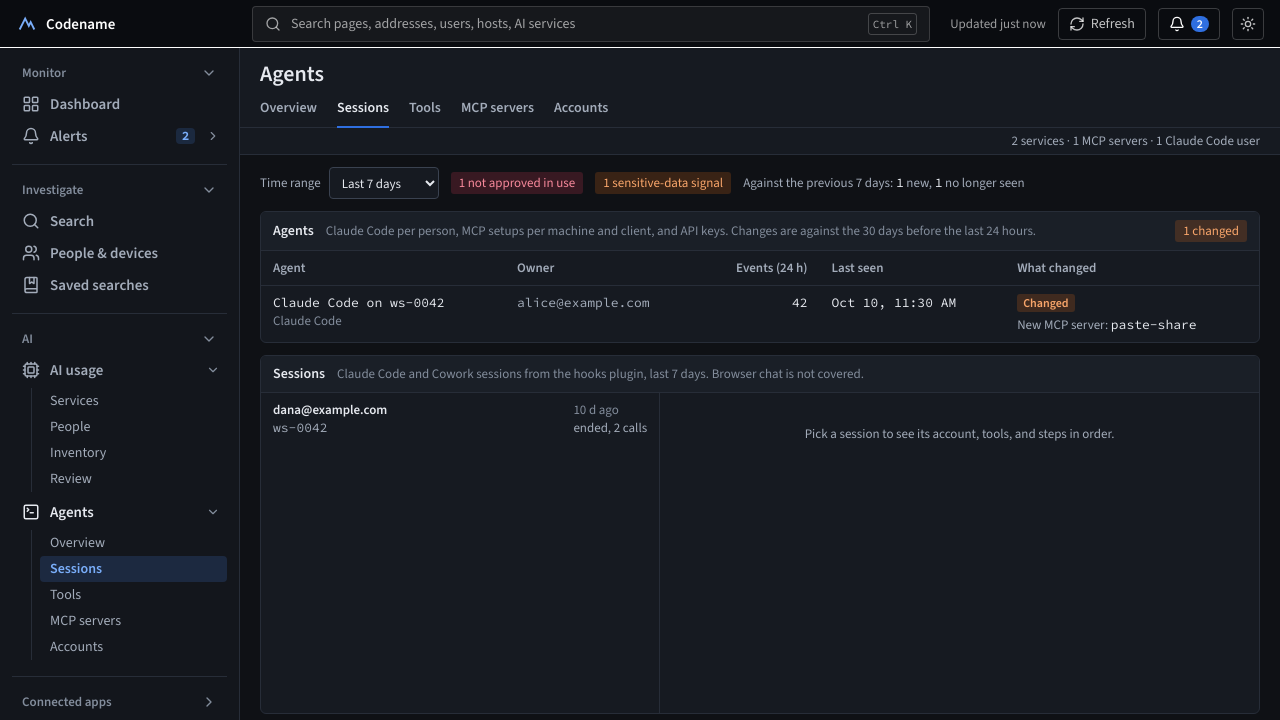
Test: Agent sessions from the hooks plugin (ADR-0026) › lists sessions and opens one beside the list, in order, with its account
Click the button "dana@example.com 10 d ago ws-0042 ended, 2 calls": (330, 410) x1=261 y1=393 x2=659 y2=445
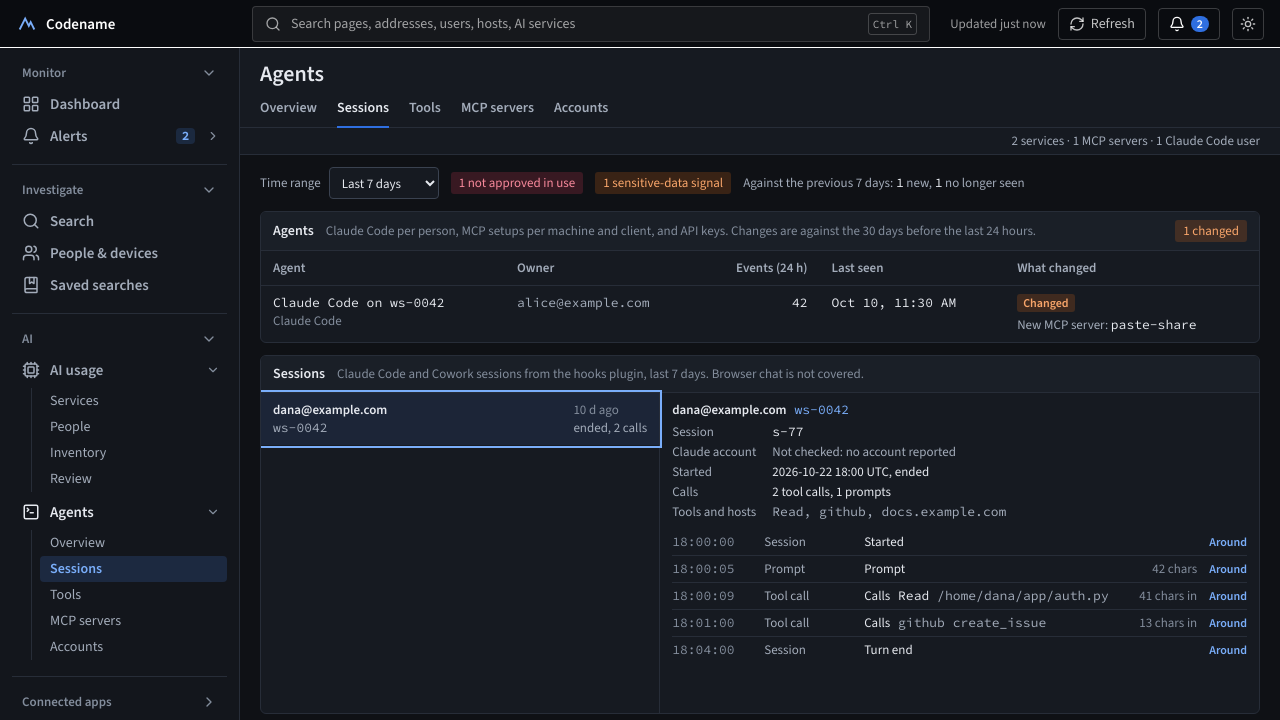
Now the text "Claude account" is shown, box x1=672 y1=443 x2=756 y2=461
Now the text "Calls Read /home/dana/app/auth.py" is shown, box x1=672 y1=583 x2=1247 y2=610
Now the text "github create_issue" is shown, box x1=898 y1=614 x2=1046 y2=631
